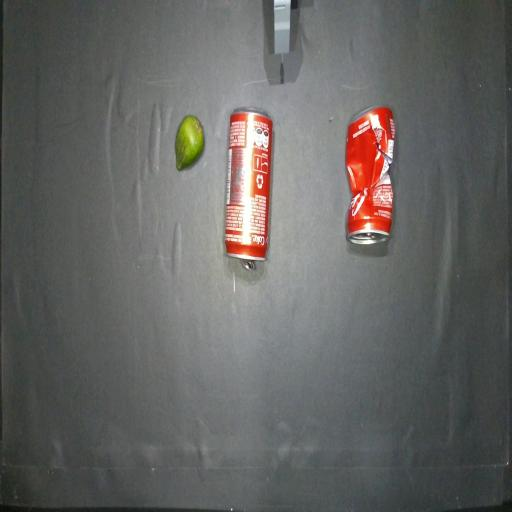higo: (175, 115, 204, 170)
lata: (225, 108, 273, 268)
lata_defectuoso: (346, 106, 395, 244)
